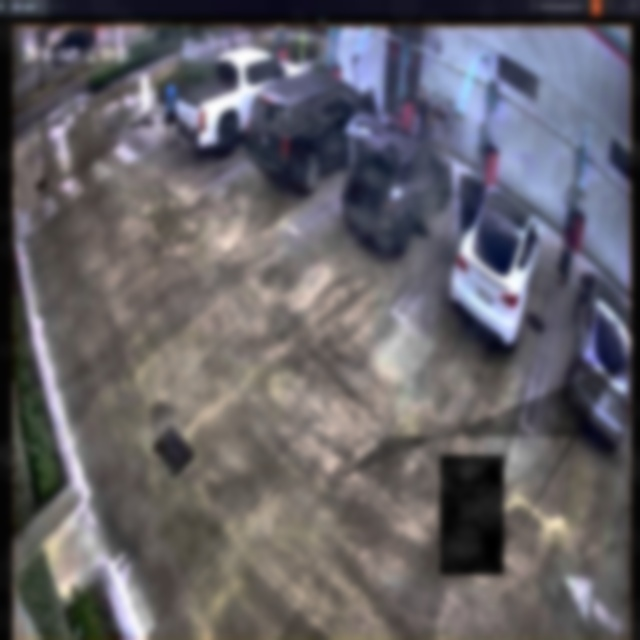Car: (449, 173, 543, 350), (341, 110, 455, 247), (248, 76, 370, 187)
